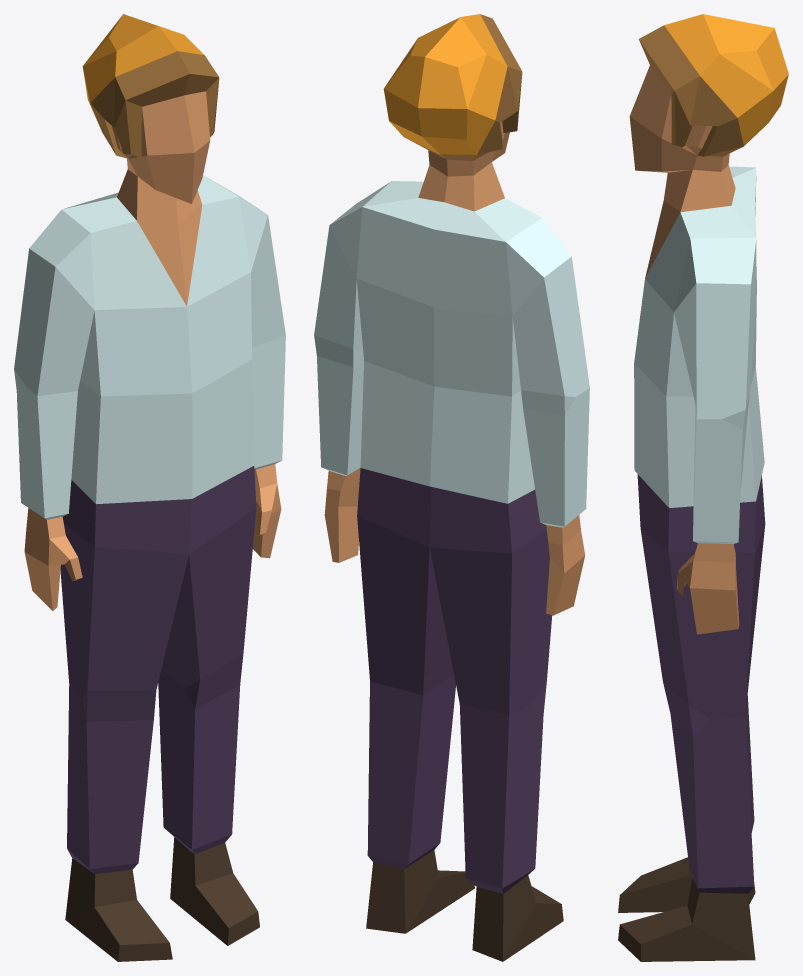
File: man-pedestrian-rival-young.glb
3 views of the same model, side by side, from view 1: azimuth 30°, elevation 25°; view 2: azimuth 150°, elevation 25°; view 3: azimuth 270°, elevation 25° (orthographic).
Parts seen in each view (by area): view 1: man-pedestrian-rival-young; view 2: man-pedestrian-rival-young; view 3: man-pedestrian-rival-young.
Boxes of the visible parts, x1,y1,x2,y2 form: man-pedestrian-rival-young: (14,14,285,961); man-pedestrian-rival-young: (314,14,589,961); man-pedestrian-rival-young: (618,14,788,961).
Size of the model in its own units: 0.5438 by 1.87 by 0.318.
Materials: 1 (1 with a texture image).
